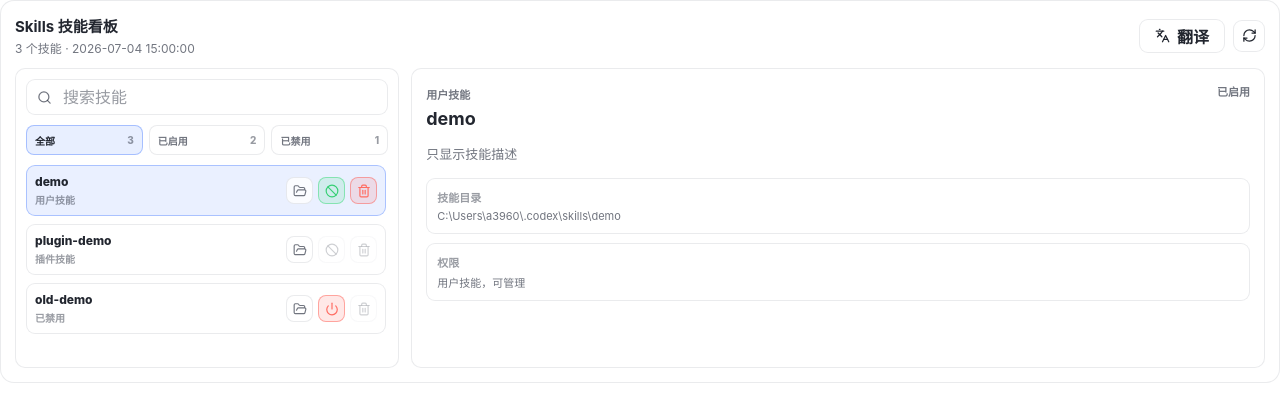
Test case: SkillsBoard › enables a disabled skill from the disabled filter
Expected: the heading "Skills 技能看板" is shown, [15, 17, 118, 36]
Click the button "已禁用 1" at (330, 140), box [272, 125, 388, 155]
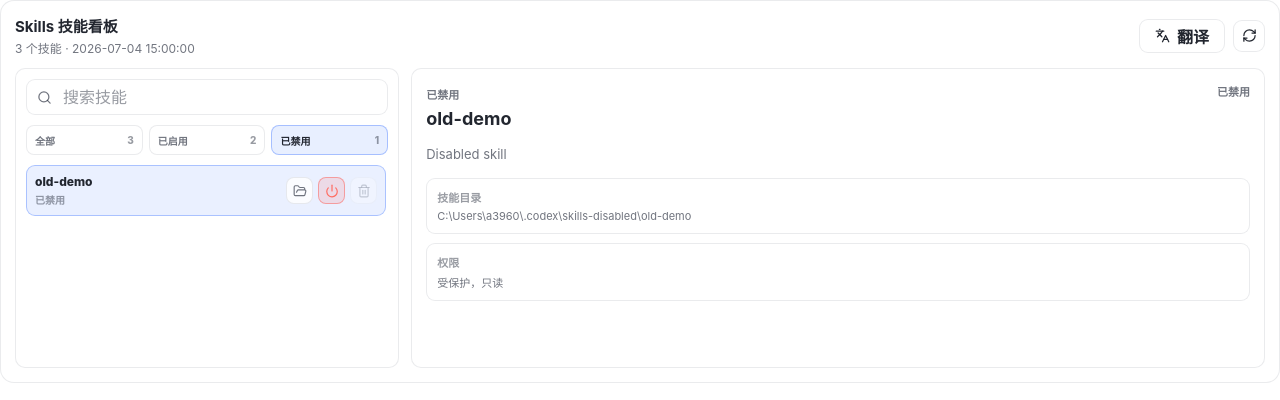
Click the button named "启用 old-demo" at (332, 190), box [318, 177, 345, 204]
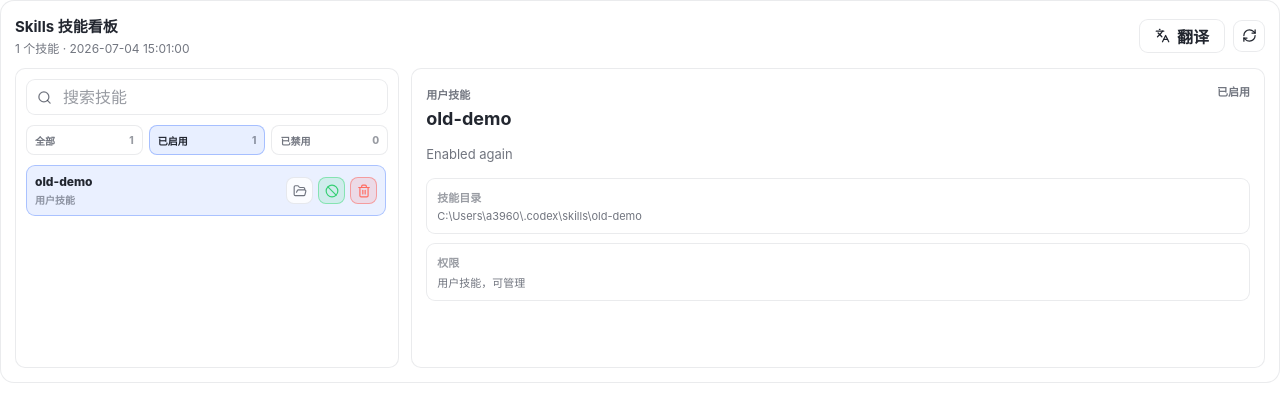
Expected: the text "Enabled again" is shown, [426, 146, 513, 162]
